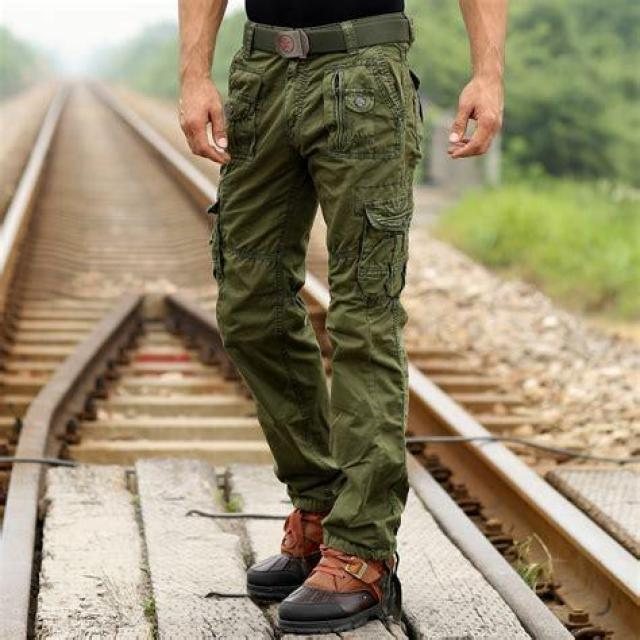pants: (206, 12, 423, 560)
